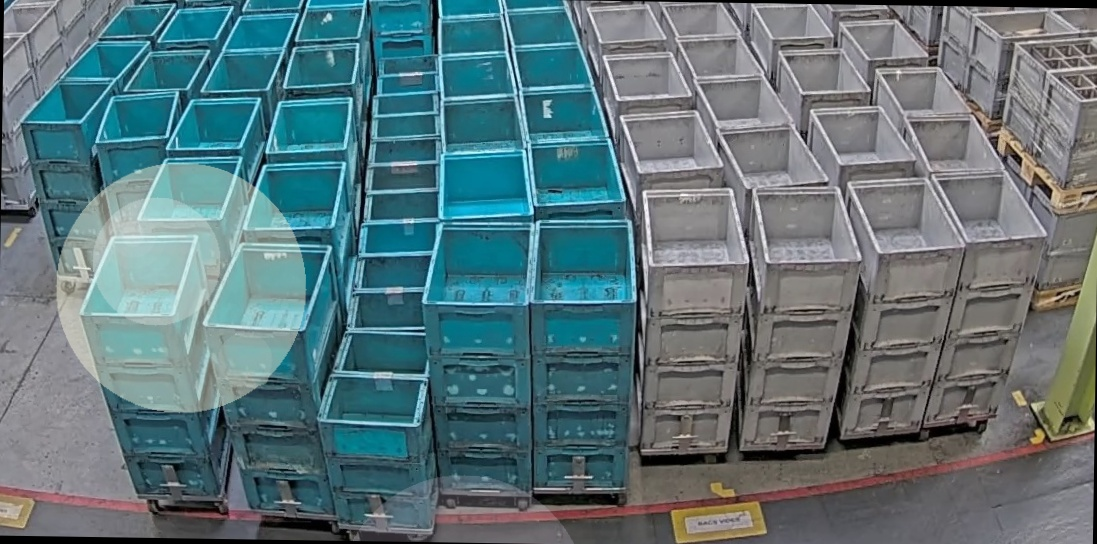4G: (837, 176, 969, 443), (738, 183, 865, 454), (922, 170, 1049, 434), (638, 184, 752, 457)
B4: (74, 233, 229, 503), (198, 239, 342, 523), (418, 220, 540, 498), (530, 218, 640, 497), (92, 88, 184, 243)
B8: (312, 327, 438, 532)
